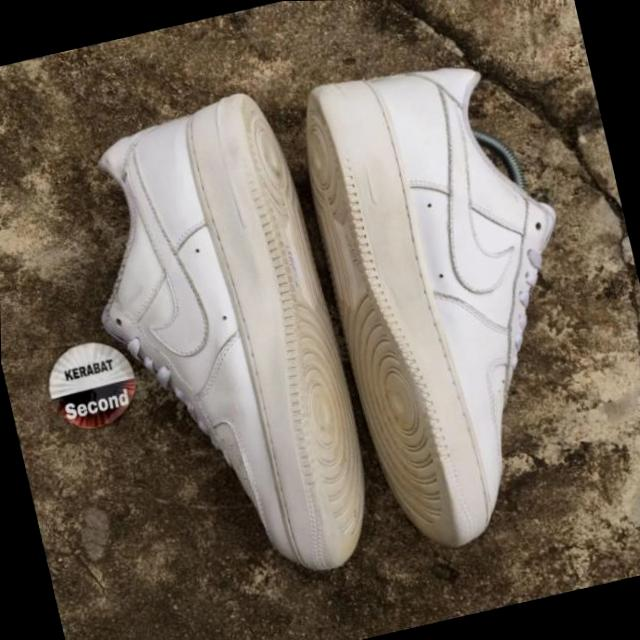nike_original_airforce: (48, 83, 396, 619), (279, 31, 627, 558)
